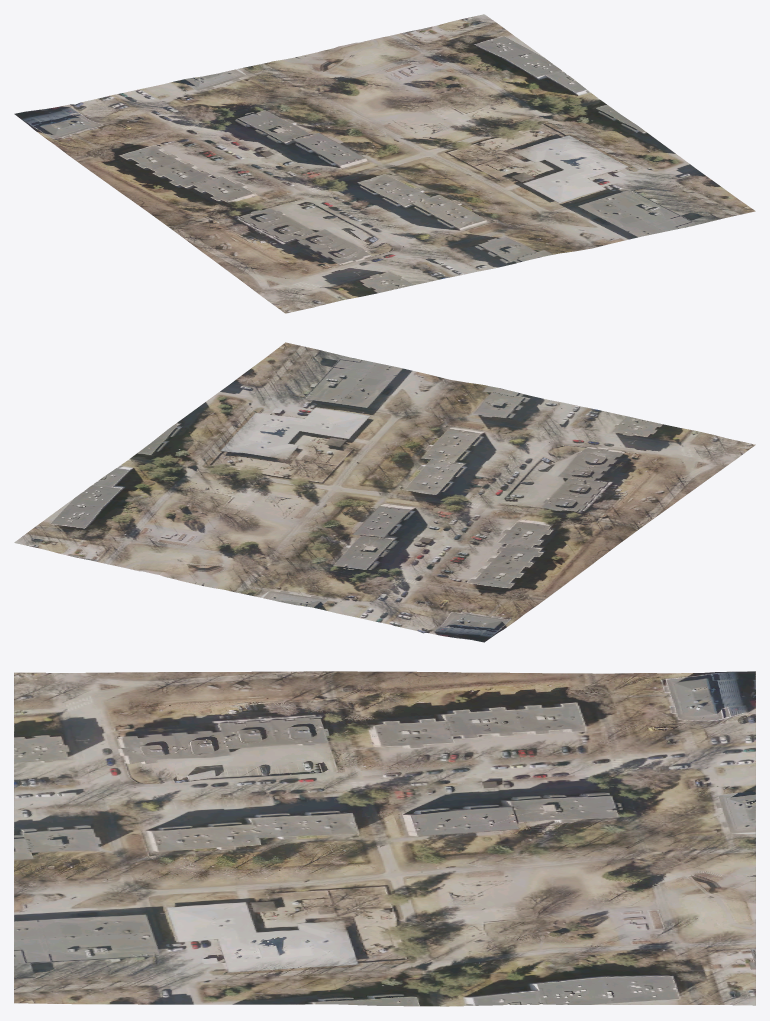
File: CM_Terrain_24486158_6821227.fbx
3 renders of one model, top to bottom at view 1: azimuth 30°, elevation 25°; view 2: azimuth 150°, elevation 25°; view 3: azimuth 270°, elevation 25°, orthographic. The views are drawn at different scales.
Parts seen in each view (by area): view 1: CM_Terrain_24486158_6821227_LOD0; view 2: CM_Terrain_24486158_6821227_LOD0; view 3: CM_Terrain_24486158_6821227_LOD0.
Boxes of the visible parts, x1,y1,x2,y2 form: CM_Terrain_24486158_6821227_LOD0: (14, 14, 755, 313); CM_Terrain_24486158_6821227_LOD0: (14, 342, 755, 642); CM_Terrain_24486158_6821227_LOD0: (14, 671, 755, 1006).
Size of what is drawn, in the model's own units: 205 by 6.65 by 205.
